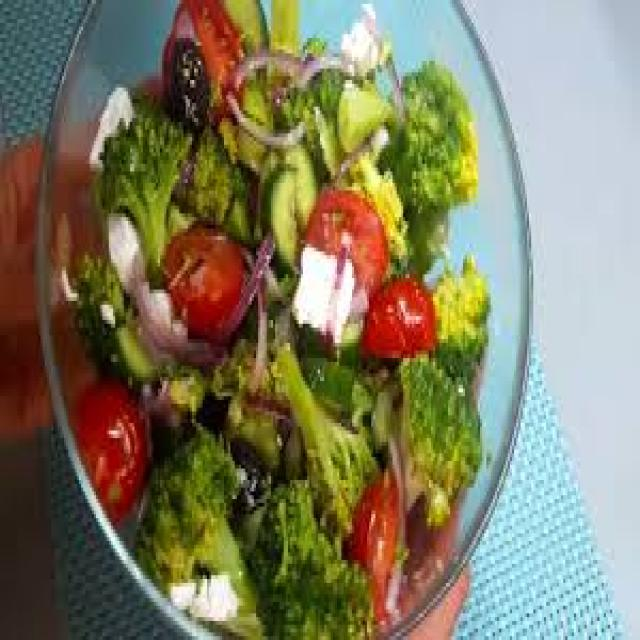Onion: (224, 29, 356, 103)
Tomato: (158, 197, 262, 328), (74, 373, 152, 521), (300, 176, 387, 308), (173, 0, 260, 125), (358, 264, 453, 366), (356, 454, 400, 613)
broccoli: (272, 324, 372, 545), (137, 424, 247, 618), (410, 229, 510, 389), (388, 58, 507, 192), (106, 102, 200, 266), (255, 487, 345, 640), (383, 345, 484, 459)
cucumber: (264, 132, 318, 266)
